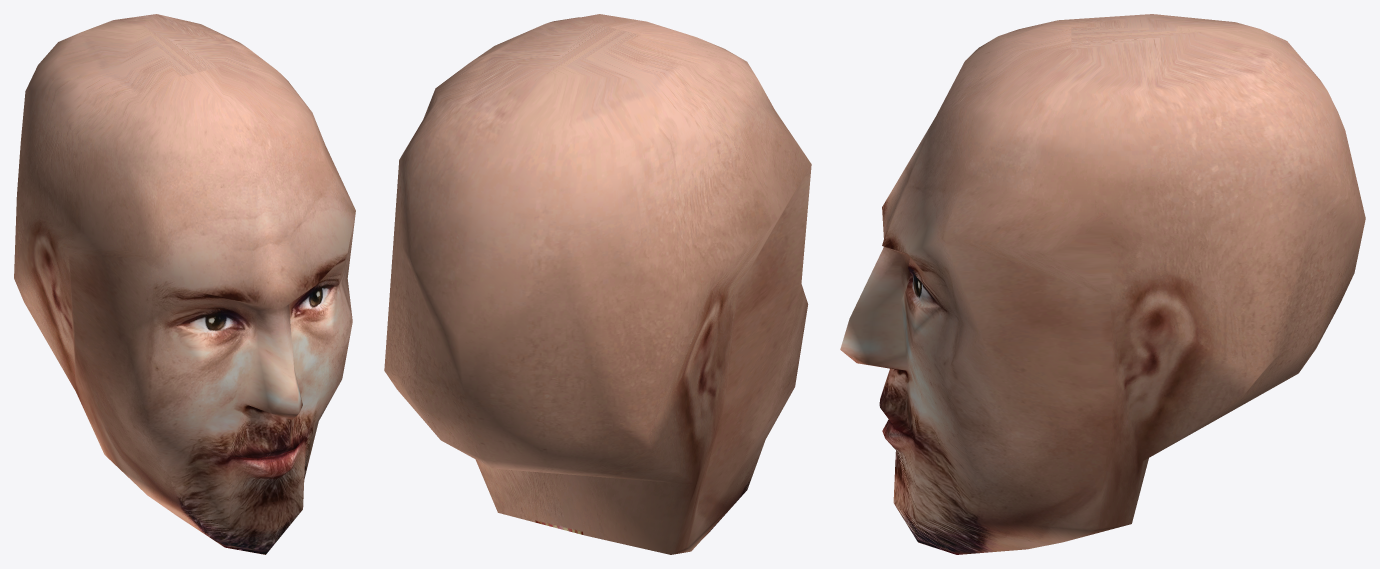
File: b_n_nord_m_head_06.glb
3 views of the same model, side by side, from view 1: azimuth 30°, elevation 25°; view 2: azimuth 150°, elevation 25°; view 3: azimuth 270°, elevation 25° (orthographic). The views are drawn at different scales.
Parts seen in each view (by area): view 1: Tri B_N_Nord_M_Head_06; view 2: Tri B_N_Nord_M_Head_06; view 3: Tri B_N_Nord_M_Head_06.
Boxes of the visible parts, x1,y1,x2,y2 form: Tri B_N_Nord_M_Head_06: (14,14,355,554); Tri B_N_Nord_M_Head_06: (384,14,811,554); Tri B_N_Nord_M_Head_06: (840,14,1365,554).
Size of the model in its own units: 0.0957 by 0.1646 by 0.1536.
1 material, 1 textured.
